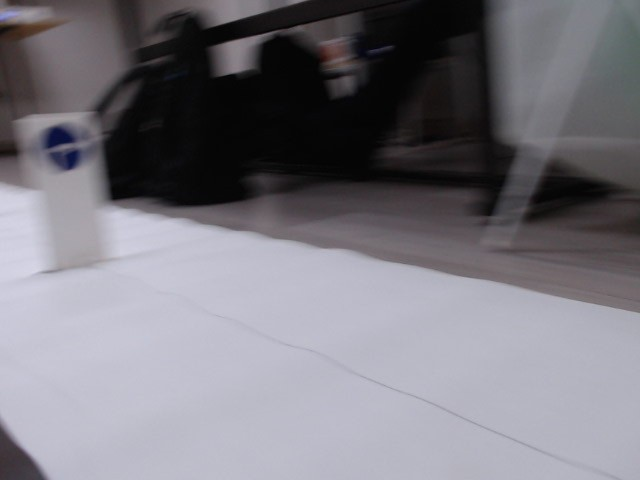Right: (35, 125, 86, 171)
